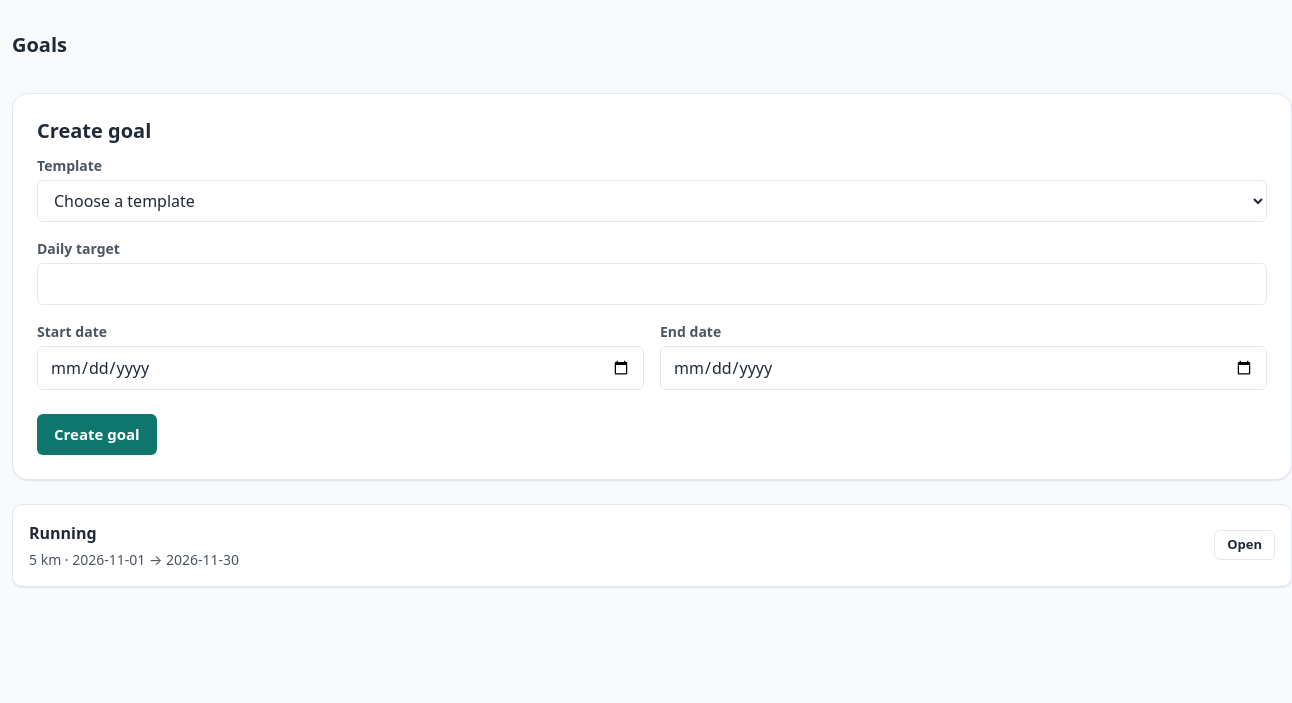
Test case: AC-04.20 record flow › TEST-04.20b Open on a goal shows its goal screen and Back returns to the goal list
Step 1. Click the button with aria-label "open running goal" → click(1245, 545), box [1214, 530, 1275, 560]
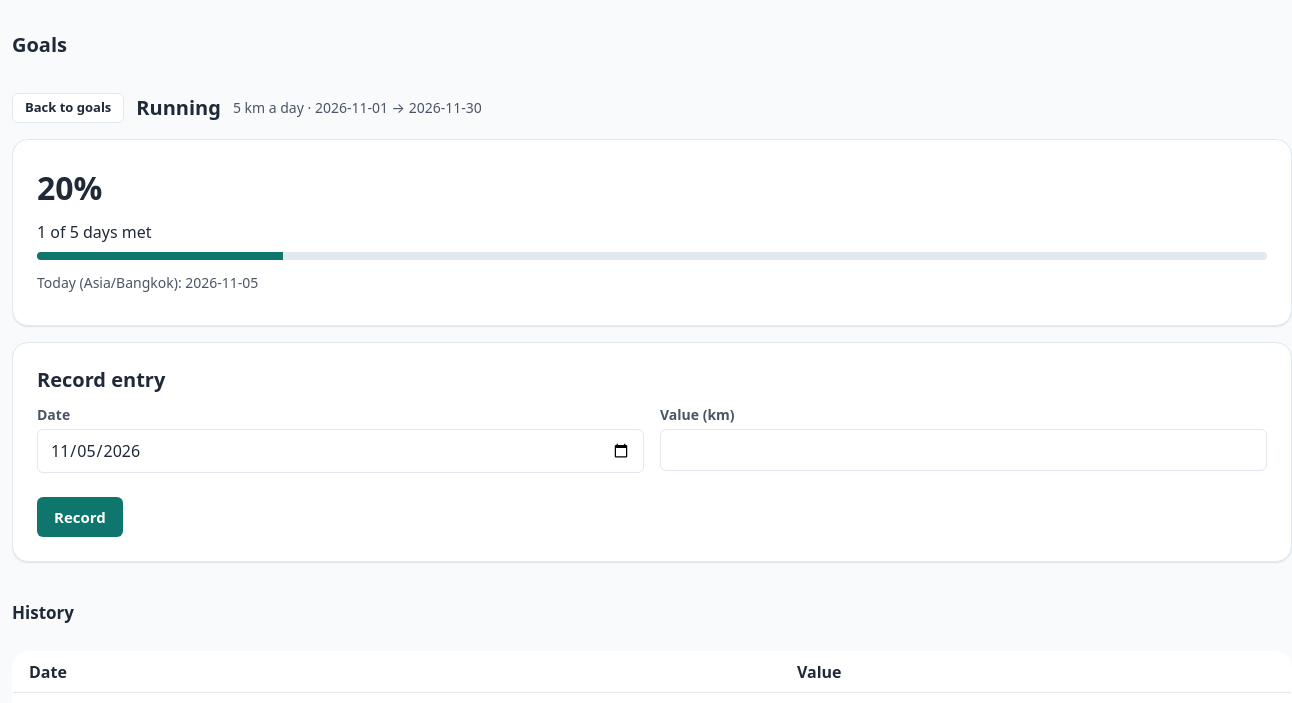
Result: the text "1 of 5 days met" is shown at [37, 220, 152, 242]
Step 2. Click the button "Back to goals" → click(68, 108), box [12, 93, 124, 122]
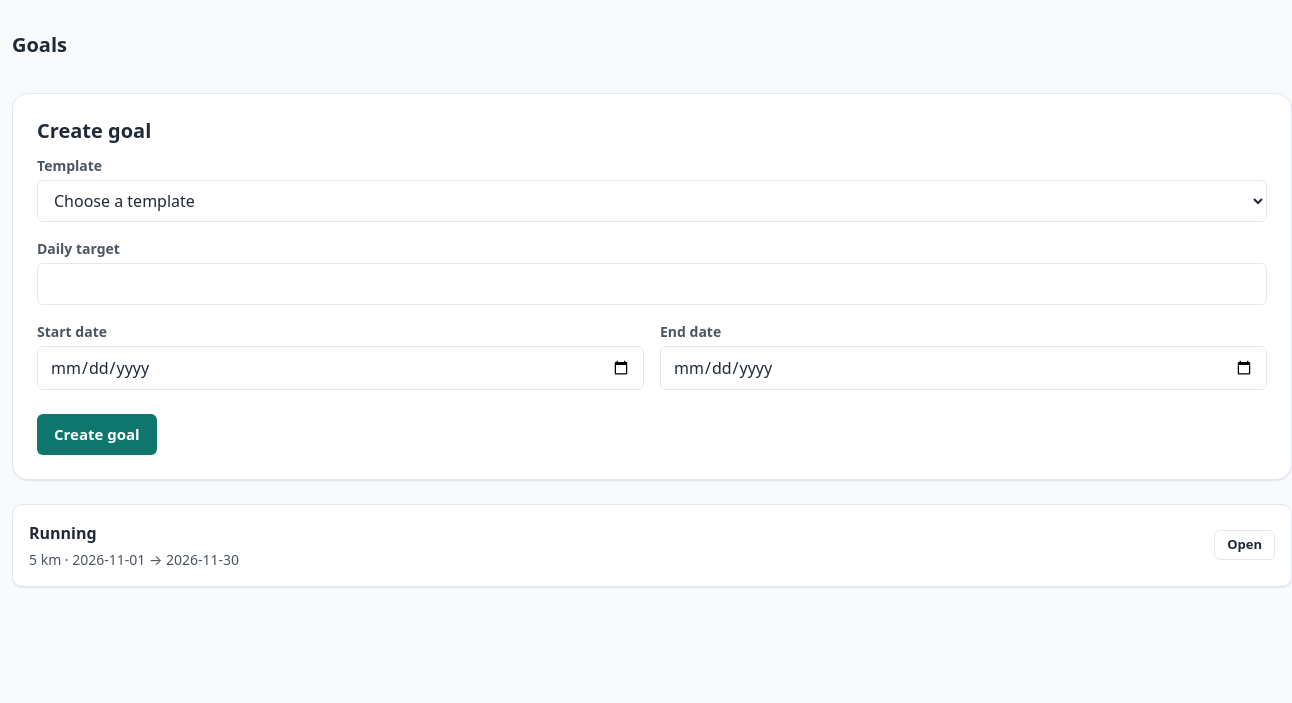
Result: the button with aria-label "open running goal" is shown at [1214, 530, 1275, 560]
Result: the heading "History" is gone
